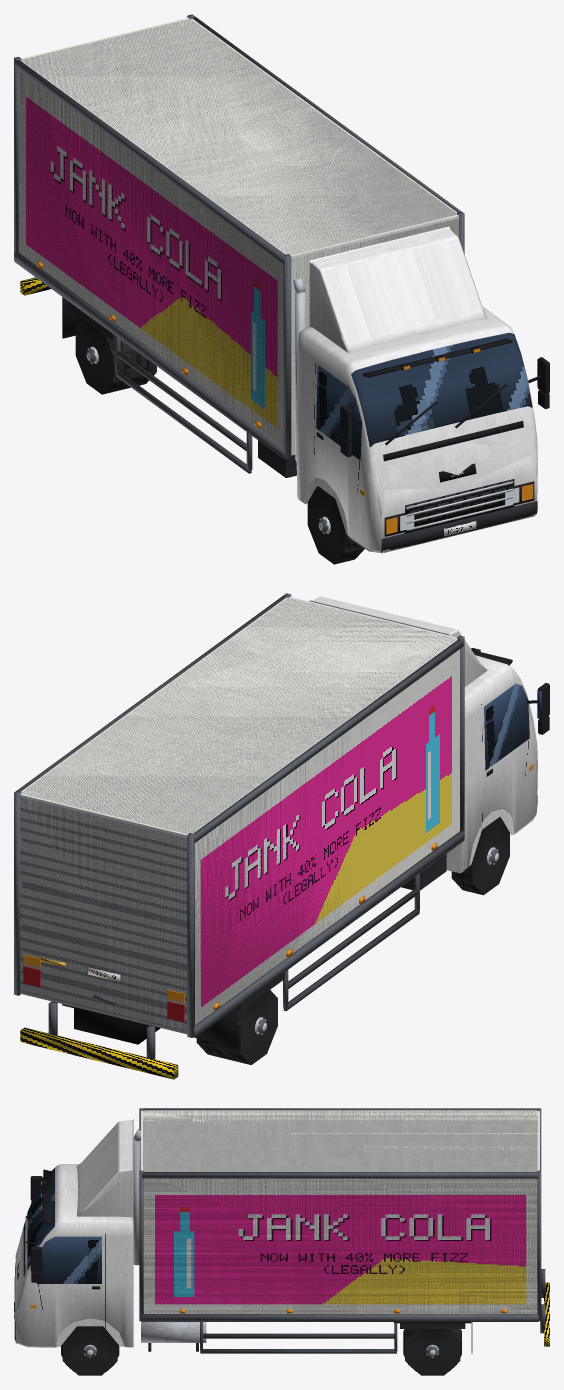
File: p_car_truck.glb
The picture shows the model from 3 angles, top to bottom: view 1: azimuth 30°, elevation 25°; view 2: azimuth 150°, elevation 25°; view 3: azimuth 270°, elevation 25°; orthographic projection. The views are drawn at different scales.
Parts seen in each view (by area): view 1: shell, lod1_mesh, wheel_rr; view 2: shell, lod1_mesh, wheel_rr, tails; view 3: shell, lod1_mesh, wheel_rl.
Boxes of the visible parts, x1=… form: shell: x1=14, y1=14, x2=549, y2=552; lod1_mesh: x1=18, y1=17, x2=537, y2=564; wheel_rr: x1=86, y1=335, x2=153, y2=392; shell: x1=14, y1=593, x2=549, y2=1079; lod1_mesh: x1=20, y1=596, x2=533, y2=1064; wheel_rr: x1=200, y1=1006, x2=266, y2=1063; tails: x1=23, y1=966, x2=184, y2=1022; shell: x1=14, y1=1108, x2=549, y2=1353; lod1_mesh: x1=15, y1=1110, x2=539, y2=1375; wheel_rl: x1=403, y1=1329, x2=461, y2=1371.
Size of the model in its own units: 2.9 by 3.84 by 9.
7 materials, 4 textured.
